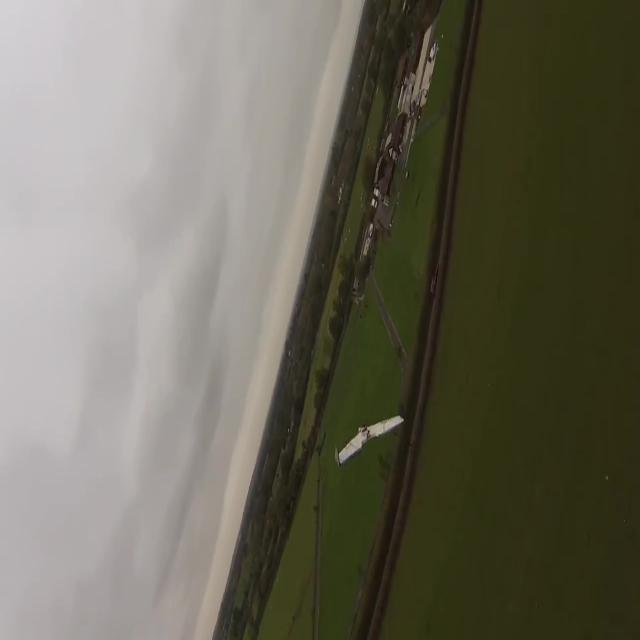iha: (368, 432, 370, 437)
